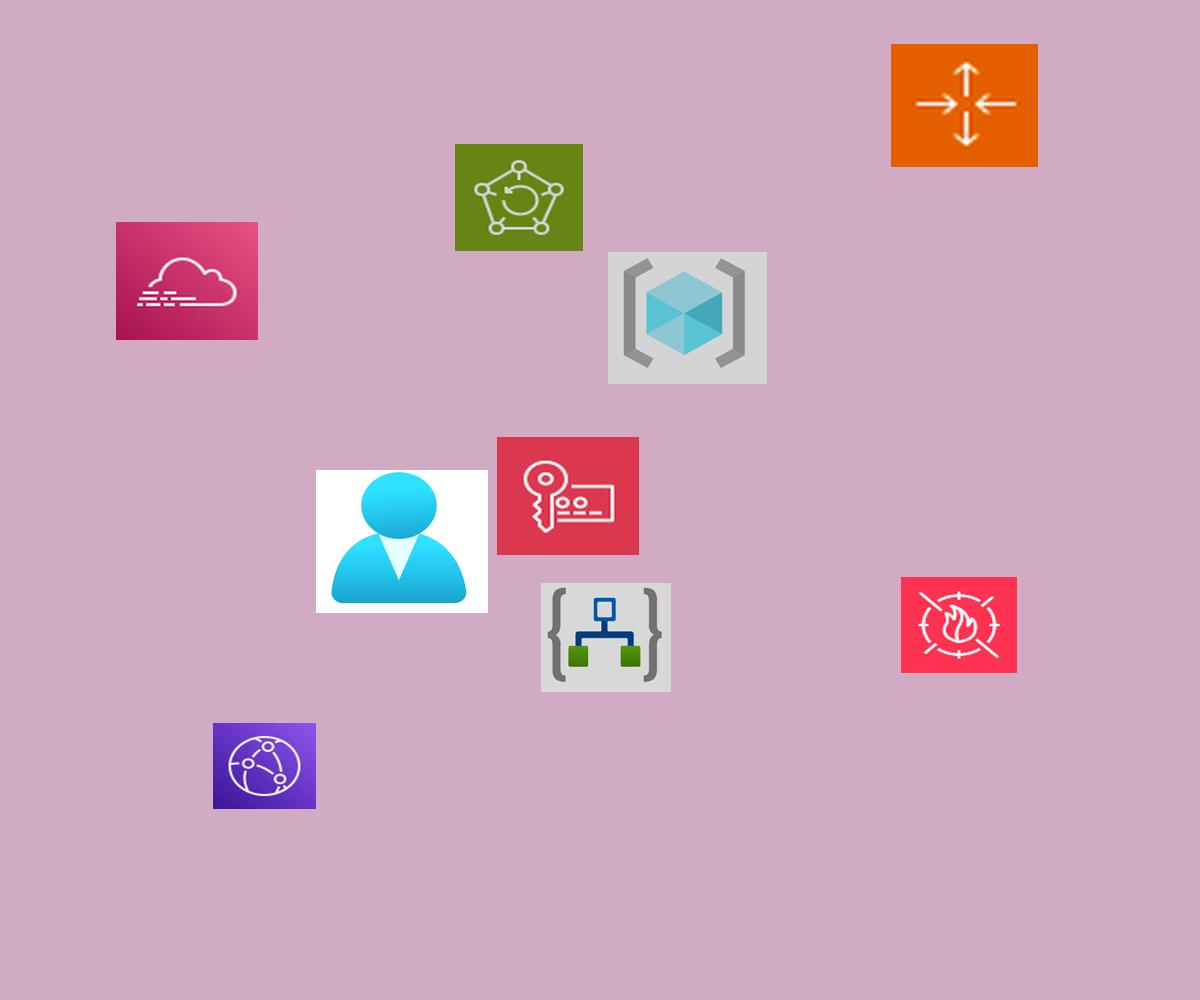AWS-Backup: (455, 144, 583, 251)
AWS-CloudFront: (213, 723, 316, 809)
AWS-CloudTrail: (116, 222, 258, 340)
AWS-Key-Management-Service: (497, 437, 639, 555)
AWS-Scaling-group: (891, 44, 1038, 167)
AWS-WAF: (901, 577, 1017, 673)
Azure_integration-204-Logic-Apps: (541, 583, 671, 692)
Azure_resource_group: (608, 252, 767, 384)
Azure_users: (316, 470, 488, 613)
